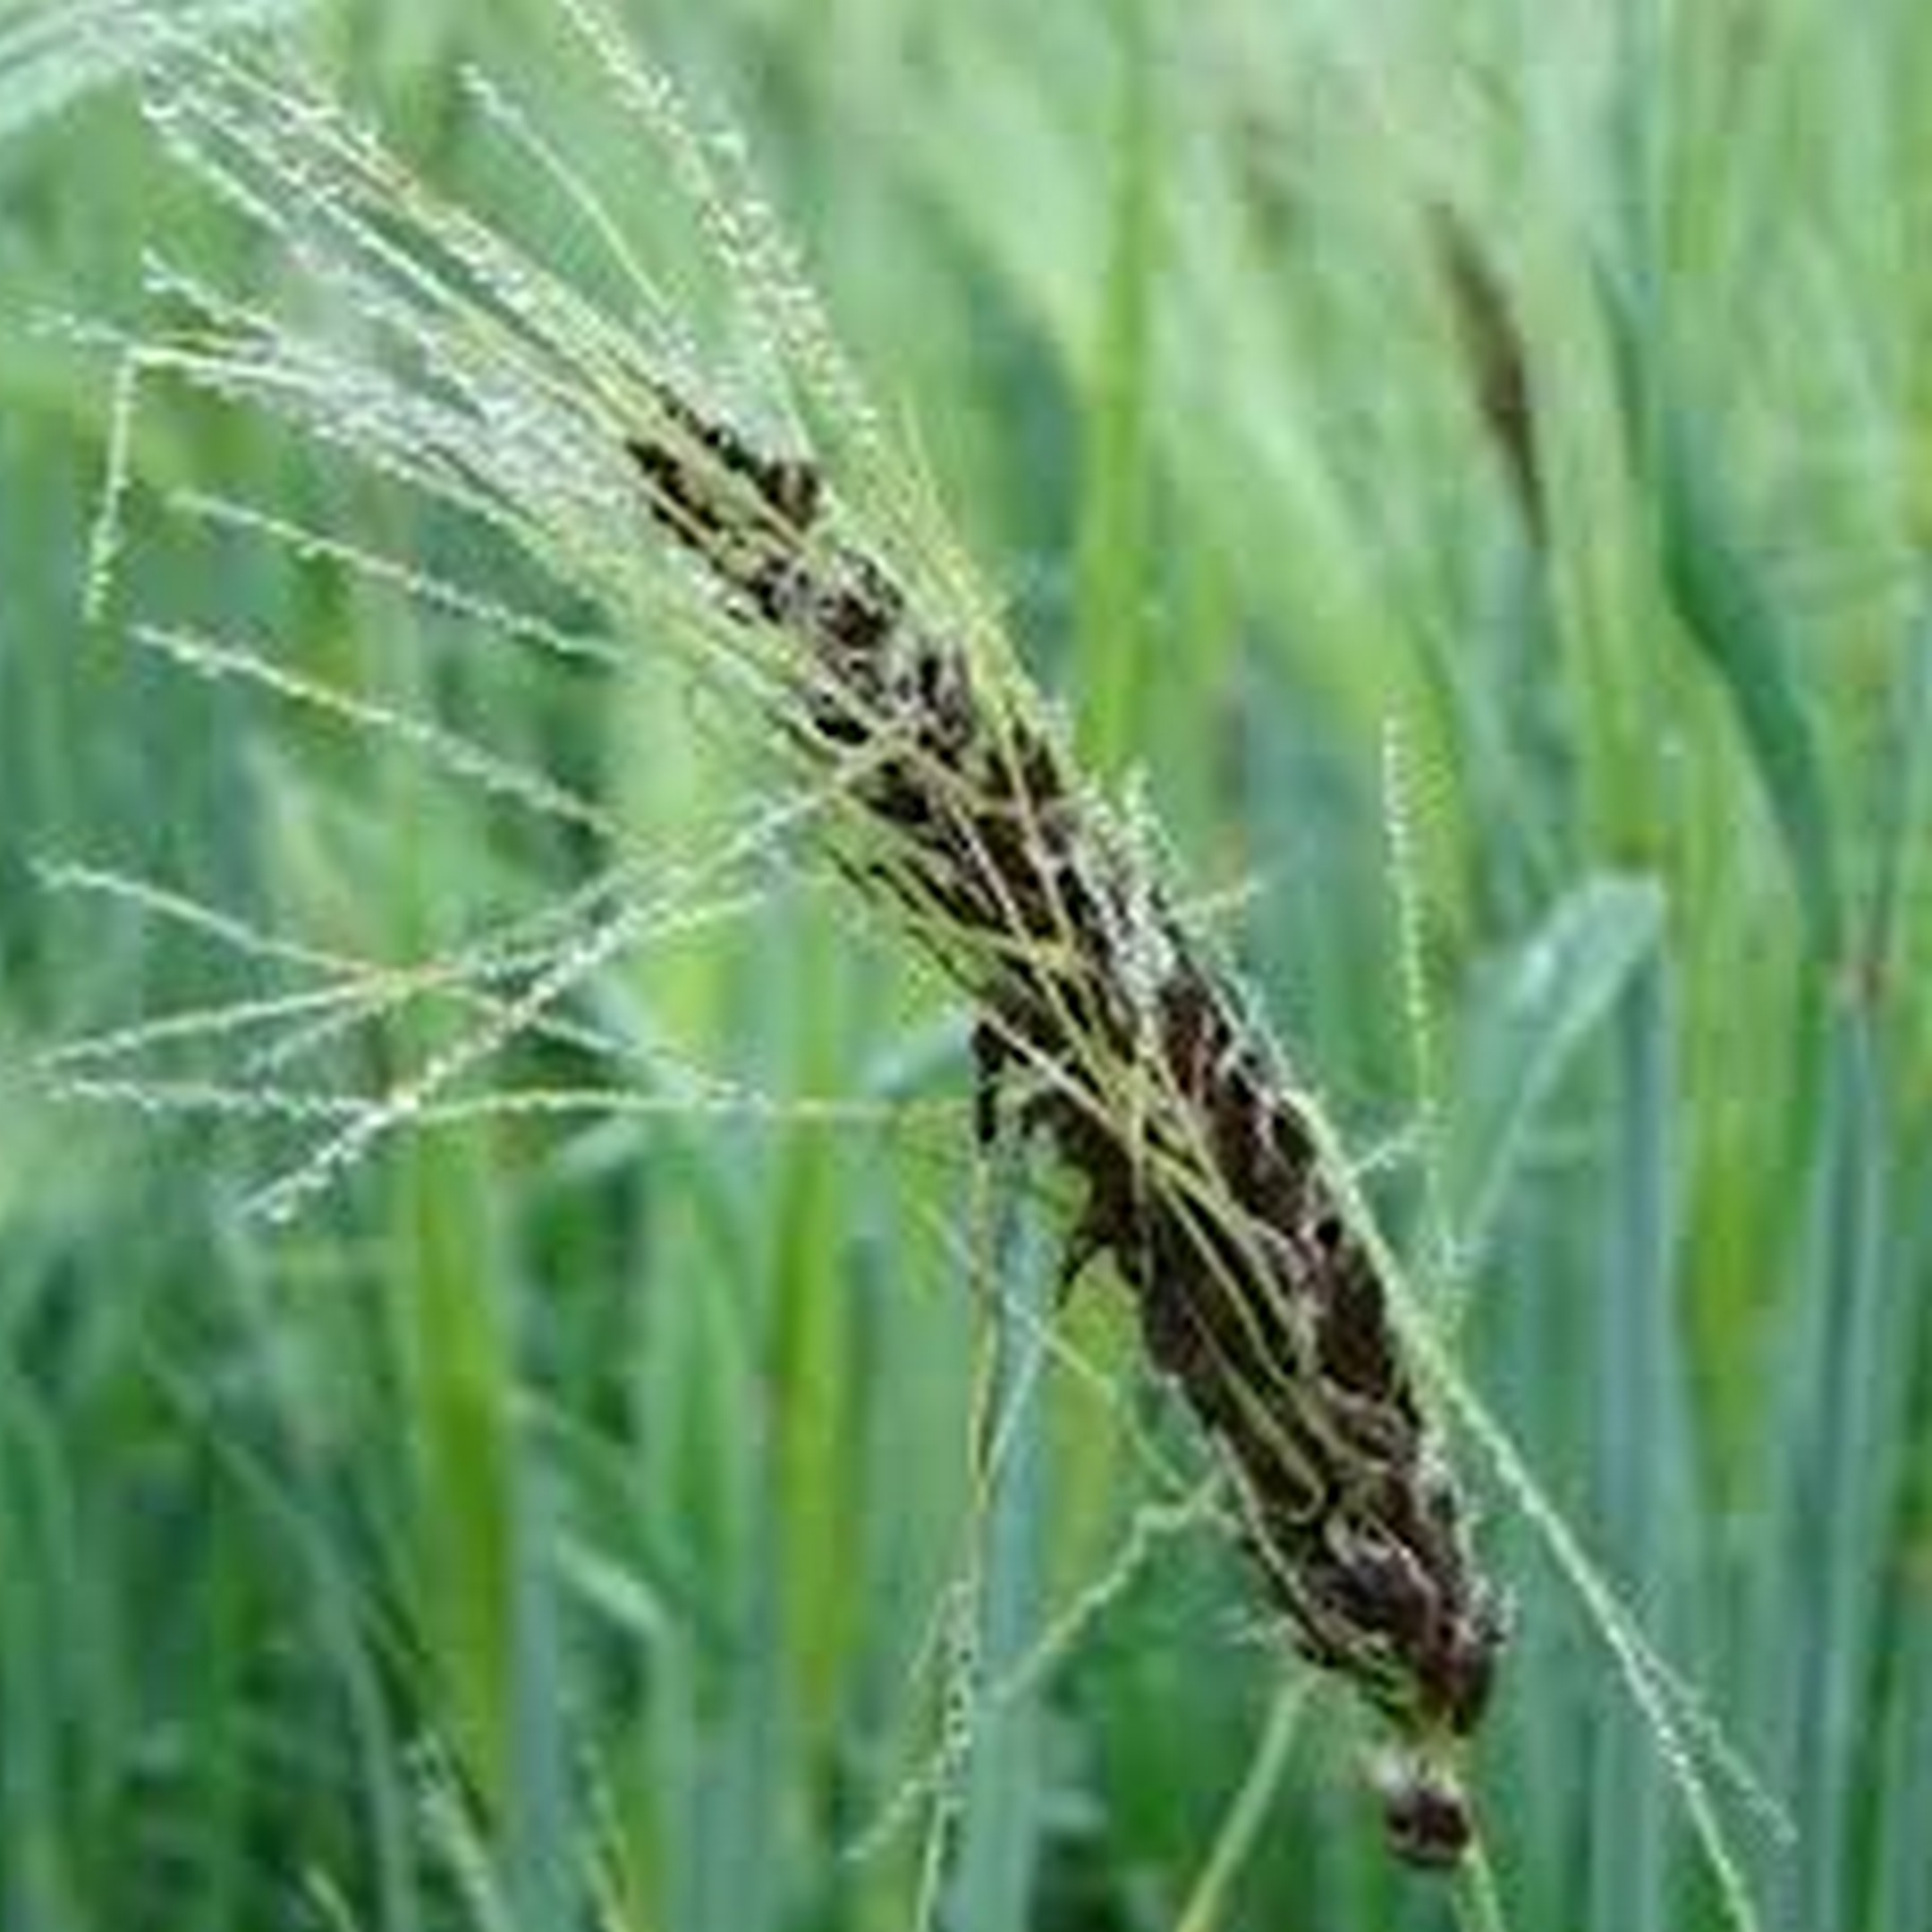Wheat Loose Smut: (630, 386, 1550, 1698)
